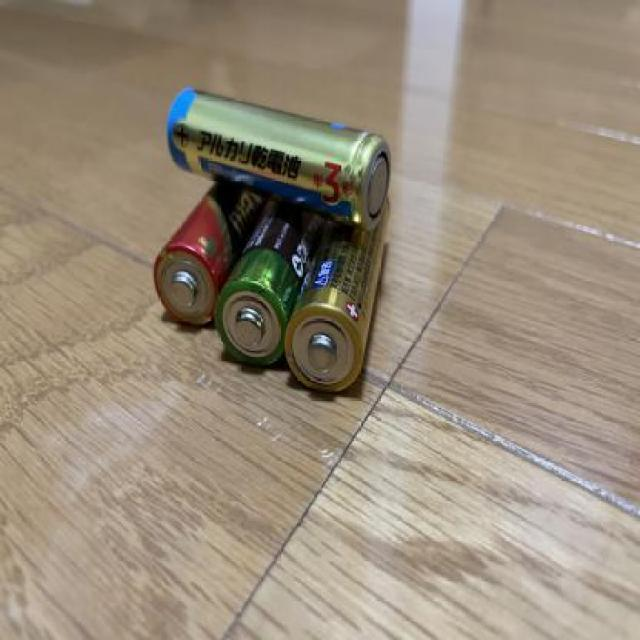hazardous waste: (164, 83, 393, 239), (283, 191, 392, 400), (214, 189, 336, 369), (152, 175, 265, 331)
